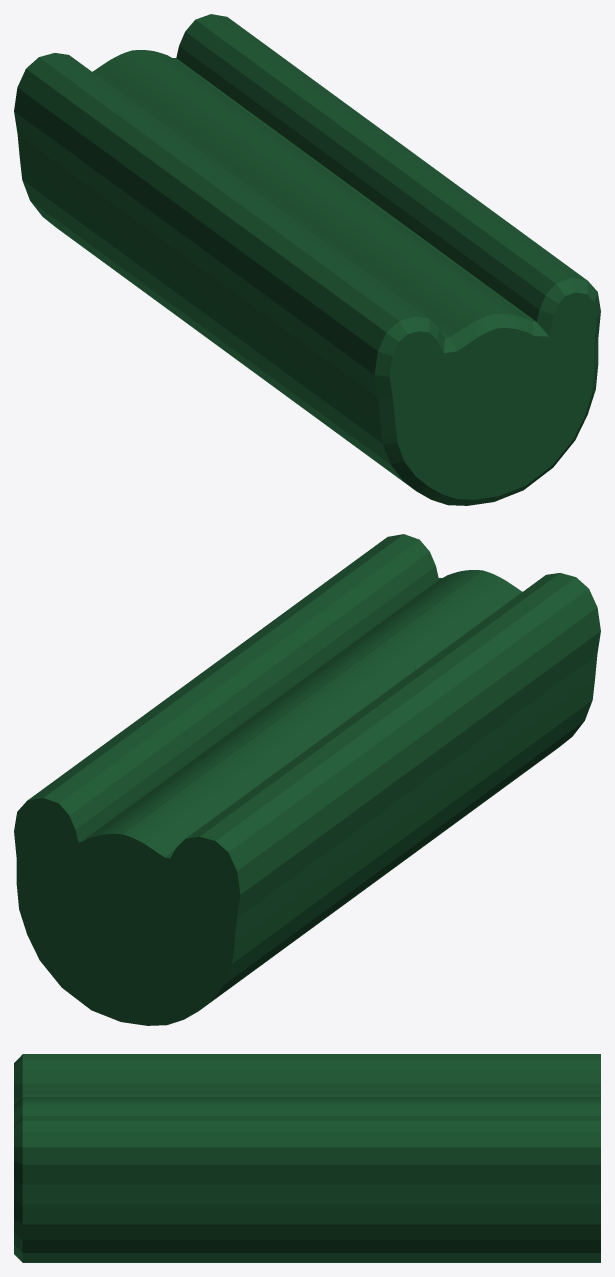
File: Mickey.fbx
3 renders of one model, top to bottom at view 1: azimuth 30°, elevation 25°; view 2: azimuth 150°, elevation 25°; view 3: azimuth 270°, elevation 25°, orthographic. The views are drawn at different scales.
Parts seen in each view (by area): view 1: Mickey; view 2: Mickey; view 3: Mickey.
Boxes of the visible parts, left/top/right/bottom form: Mickey: left=14, top=14, right=600, bottom=505; Mickey: left=14, top=534, right=600, bottom=1025; Mickey: left=14, top=1054, right=600, bottom=1262.
Bounding box in the file's own units: 107 × 92.81 × 300.
